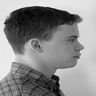ear: (27, 35, 47, 56)
